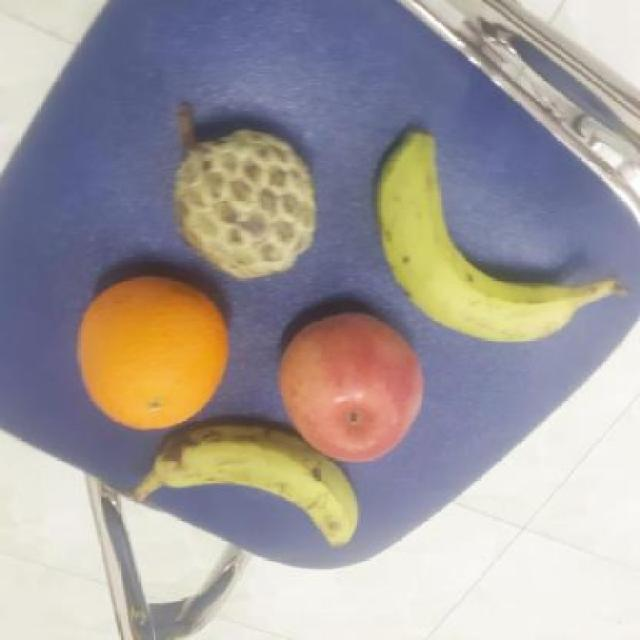apple: (270, 310, 427, 470)
banana: (371, 129, 587, 346), (149, 421, 362, 557)
oren: (72, 276, 230, 432)
sugar apple: (166, 125, 322, 284)
